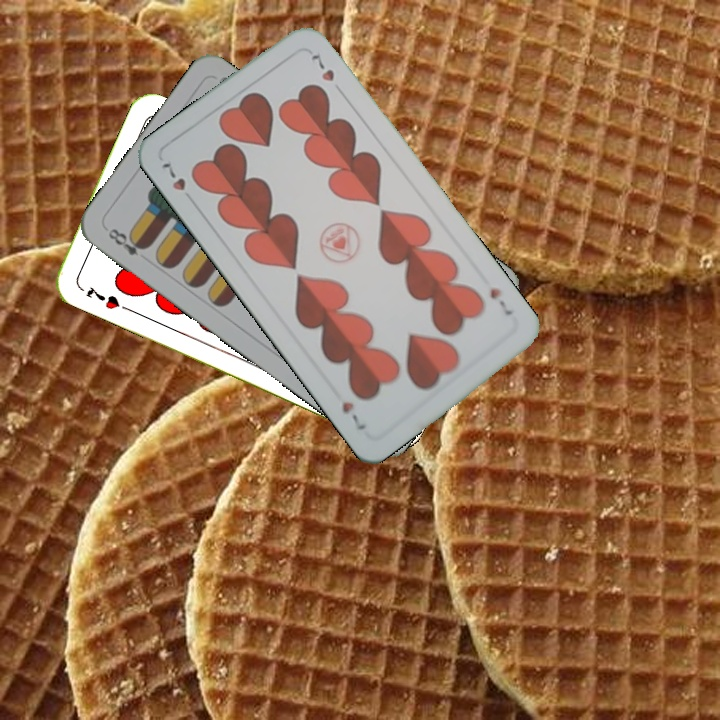E8: (104, 224, 151, 259)
H7: (157, 157, 198, 207), (82, 282, 122, 312), (485, 283, 515, 318)
